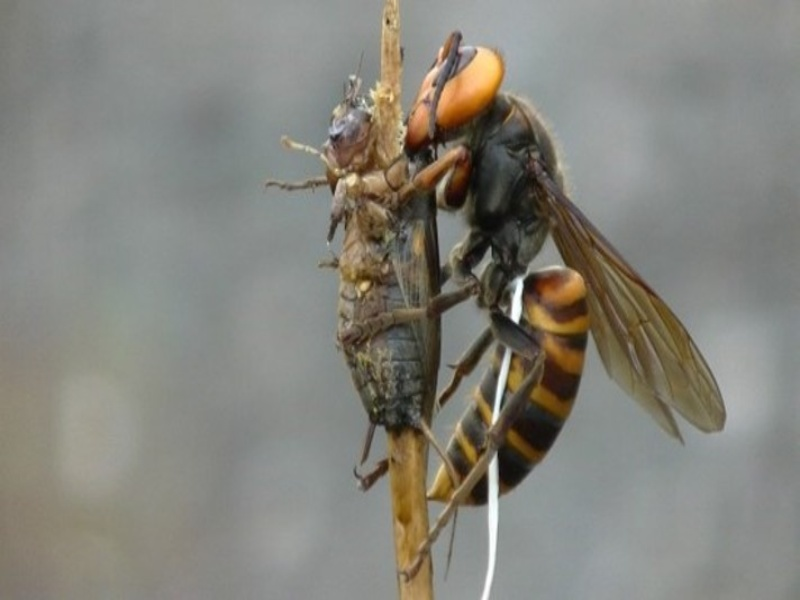asian_giant_hornet: (402, 27, 606, 512)
